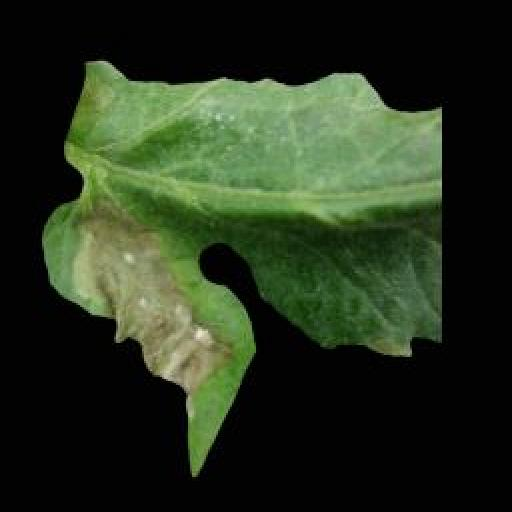disease_tomato: (38, 57, 442, 475)
